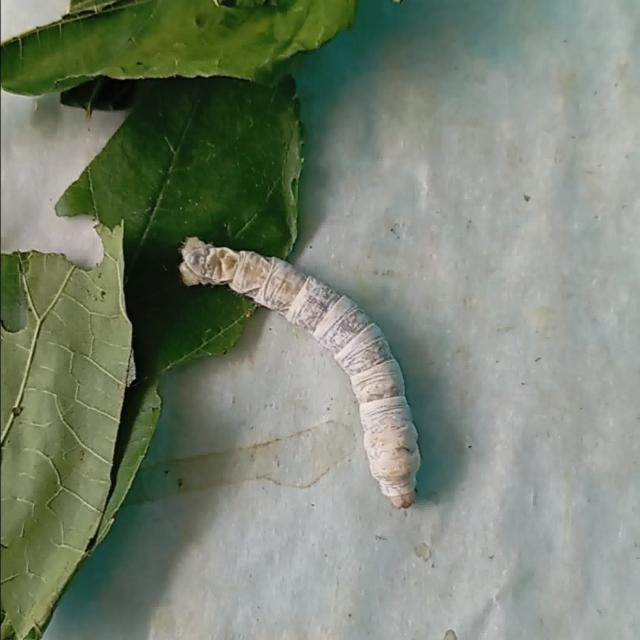Grasserie: (160, 214, 460, 518)
